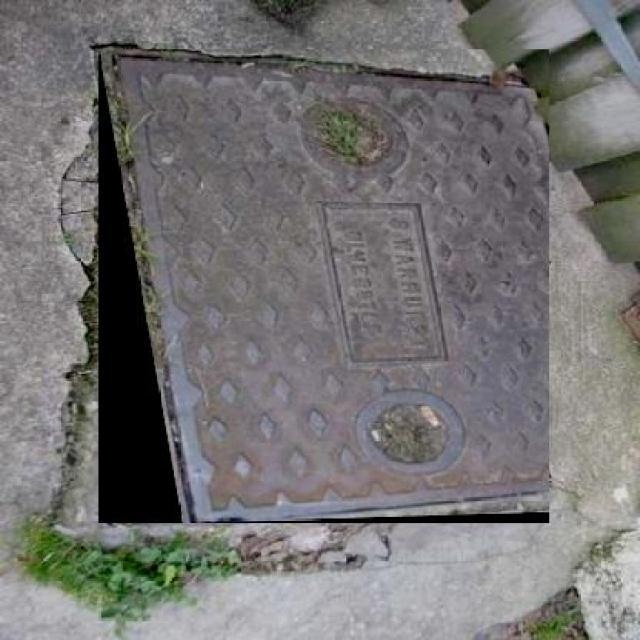Manhole: (98, 48, 550, 524)
